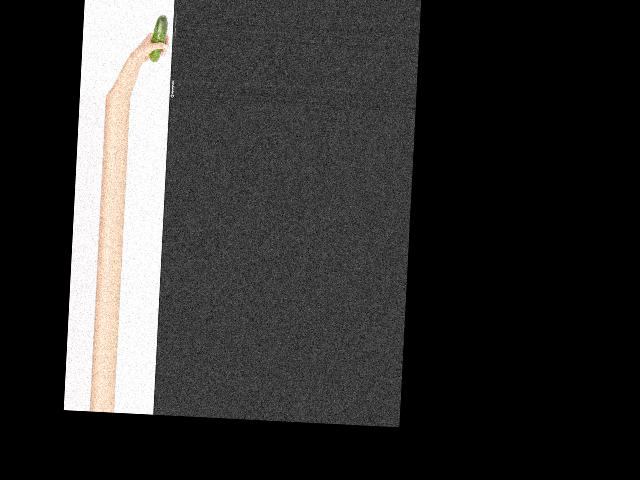cucumber: (149, 13, 168, 62)
